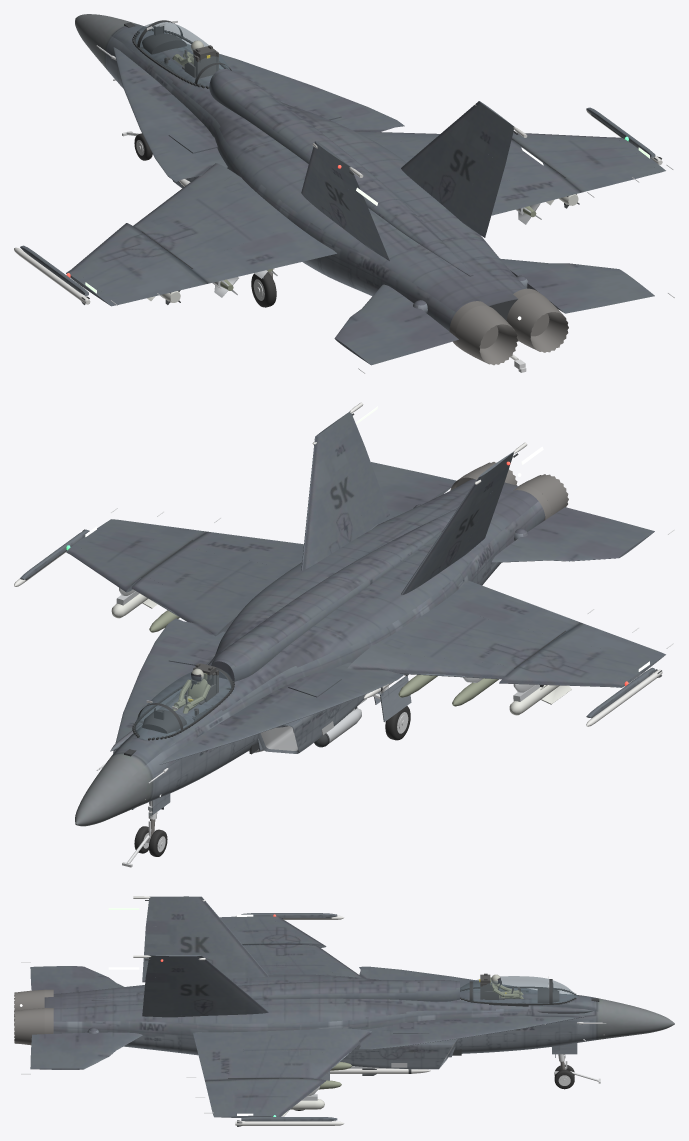
3 views of the same model, one above another, from view 1: azimuth 30°, elevation 25°; view 2: azimuth 150°, elevation 25°; view 3: azimuth 270°, elevation 25° (orthographic). The views are drawn at different scales.
Parts seen in each view (by area): view 1: airframe, stabL, stabR, flapL, canopy, nozPetL, nozPetR, flapR, rudR, lefIL, cockpit, ailL (+8 smaller); view 2: airframe, stabL, canopy, flapL, lefIL, stabR, flapR, lefIR, cockpit, rudR, ailL, ailR (+10 smaller); view 3: airframe, stabR, canopy, flapR, stabL, lefIR, rudR, cockpit, nozPetR, rudL, ailR, lefIL (+7 smaller).
Part boxes in pixels (box(x1,y1,x2,y2)): airframe: box(20, 14, 674, 373); stabL: box(334, 284, 458, 365); stabR: box(500, 258, 654, 313); flapL: box(185, 225, 336, 283); canopy: box(134, 22, 229, 87); nozPetL: box(455, 305, 517, 365); nozPetR: box(506, 293, 568, 352); flapR: box(491, 174, 580, 215); rudR: box(456, 154, 504, 237); lefIL: box(133, 163, 235, 233); cockpit: box(142, 26, 218, 78); ailL: box(105, 265, 207, 304); airframe: box(20, 402, 674, 826); stabL: box(491, 507, 654, 562); canopy: box(134, 671, 231, 740); flapL: box(438, 581, 580, 637); lefIL: box(347, 649, 515, 679); stabR: box(371, 462, 456, 524); flapR: box(185, 531, 303, 569); lefIR: box(131, 576, 235, 636); cockpit: box(142, 663, 218, 733); rudR: box(350, 447, 389, 532); ailL: box(559, 623, 660, 660); ailR: box(105, 520, 207, 546); airframe: box(20, 896, 674, 1121); stabR: box(30, 1032, 142, 1069); canopy: box(460, 976, 577, 1003); flapR: box(193, 1032, 246, 1080); stabL: box(30, 966, 123, 993); lefIR: box(300, 1028, 371, 1079); rudR: box(142, 977, 181, 1017); cockpit: box(479, 973, 559, 1003); nozPetR: box(14, 1008, 44, 1045); rudL: box(142, 926, 175, 982); ailR: box(205, 1079, 238, 1114); lefIL: box(299, 944, 361, 977).
Size of what is drawn, in the model's own units: 13.63 by 4.9 by 18.3.
20 materials, 1 textured.
